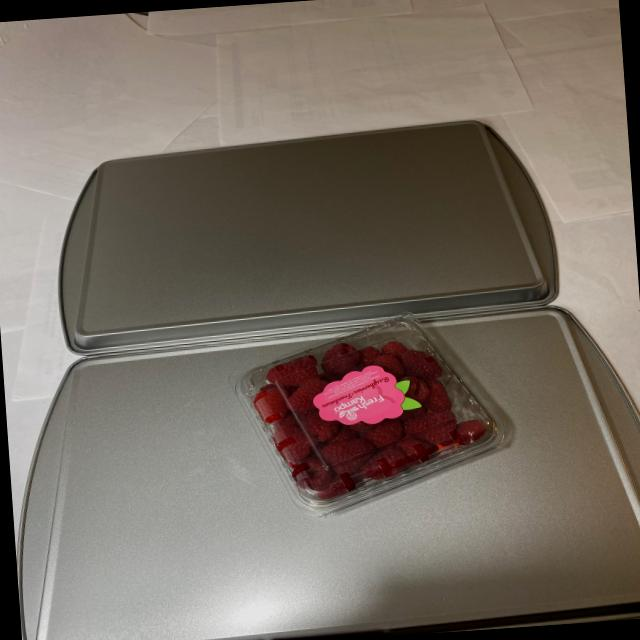raspberries: (251, 334, 494, 490)
